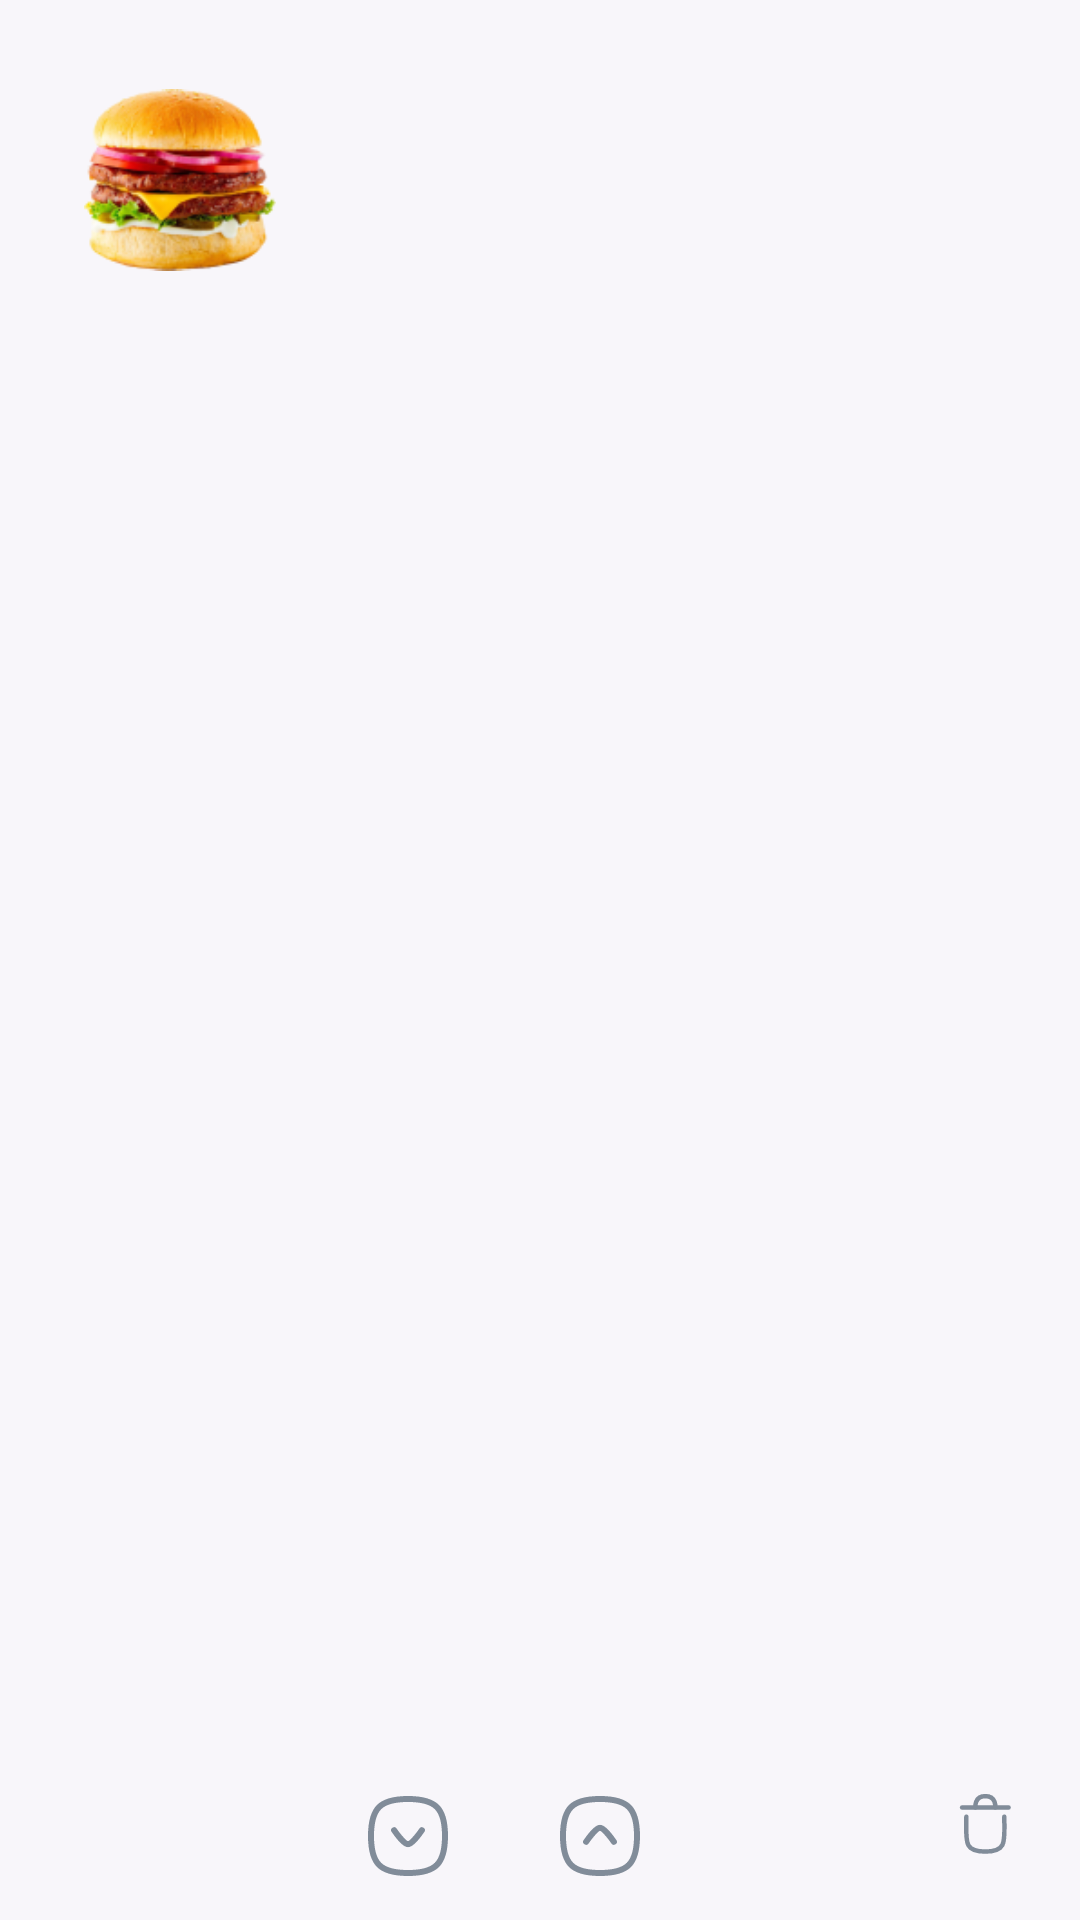

Named icons in this screenshot (1080×1920) and their bounding boxes, Rect(x1, y1, x2, y2):
delete: Rect(960, 1794, 1011, 1854)
down: Rect(368, 1796, 448, 1876)
food: Rect(84, 89, 276, 271)
